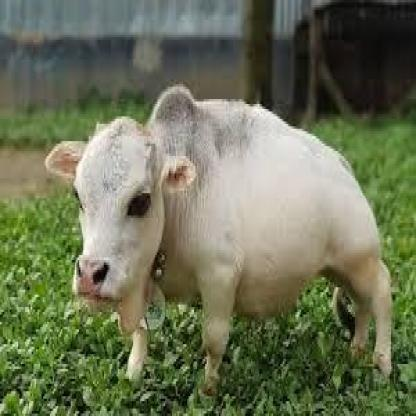cow: (45, 99, 390, 394)
